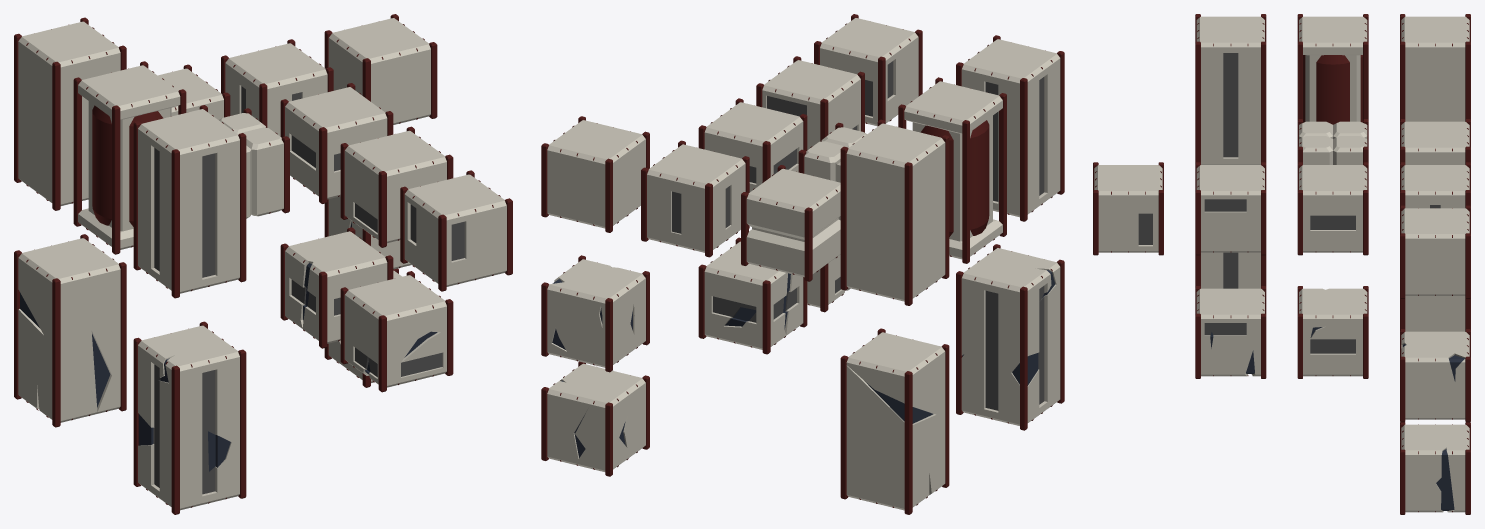
File: ModularBuilding MK.2.fbx
3 renders of one model, left to right at view 1: azimuth 30°, elevation 25°; view 2: azimuth 150°, elevation 25°; view 3: azimuth 270°, elevation 25°, orthographic. The views are drawn at different scales.
Parts seen in each view (by area): view 1: pCube58, pCube59, pCube52, pCube51, pCube53, pCube56, pCube4, pCube37, pCube57, pCube50 (×5), pCube36, pCube46 (+8 smaller); view 2: pCube51, pCube58, pCube59, pCube52, pCube54, pCube55, pCube4, pCube35, pCube38, pCube57, pCube53, pCube49 (×5) (+9 smaller); view 3: pCube52, pCube51, pCube54, pCube55, pCube4, pCube53, pCube57, pCube56, pCube36, pCube37, pCube46, pCube38 (+7 smaller).
Boxes of the visible parts, x1,y1,x2,y2 form: pCube58: [18, 238, 120, 422]; pCube59: [138, 325, 239, 510]; pCube52: [138, 109, 239, 293]; pCube51: [18, 21, 120, 205]; pCube53: [404, 174, 506, 286]; pCube56: [344, 275, 446, 387]; pCube4: [328, 18, 430, 124]; pCube37: [344, 130, 446, 243]; pCube57: [285, 231, 387, 343]; pCube50 (×5): [52, 61, 179, 514]; pCube36: [285, 87, 387, 199]; pCube46: [78, 65, 180, 249]; pCube51: [846, 123, 945, 301]; pCube58: [846, 332, 945, 510]; pCube59: [961, 248, 1060, 425]; pCube52: [961, 39, 1060, 217]; pCube54: [547, 259, 645, 367]; pCube55: [547, 363, 645, 471]; pCube4: [547, 120, 645, 228]; pCube35: [647, 144, 745, 252]; pCube38: [746, 168, 840, 277]; pCube57: [704, 241, 803, 349]; pCube53: [820, 18, 918, 126]; pCube49 (×5): [904, 78, 1027, 514]; pCube52: [1196, 16, 1264, 164]; pCube51: [1401, 16, 1469, 121]; pCube54: [1401, 331, 1469, 419]; pCube55: [1401, 424, 1469, 512]; pCube4: [1401, 208, 1469, 295]; pCube53: [1094, 165, 1162, 252]; pCube57: [1299, 288, 1367, 376]; pCube56: [1196, 288, 1264, 376]; pCube36: [1299, 165, 1367, 252]; pCube37: [1196, 165, 1264, 252]; pCube46: [1299, 16, 1367, 121]; pCube38: [1401, 121, 1469, 164].
Size of the model in its own units: 554 by 553 by 554.
